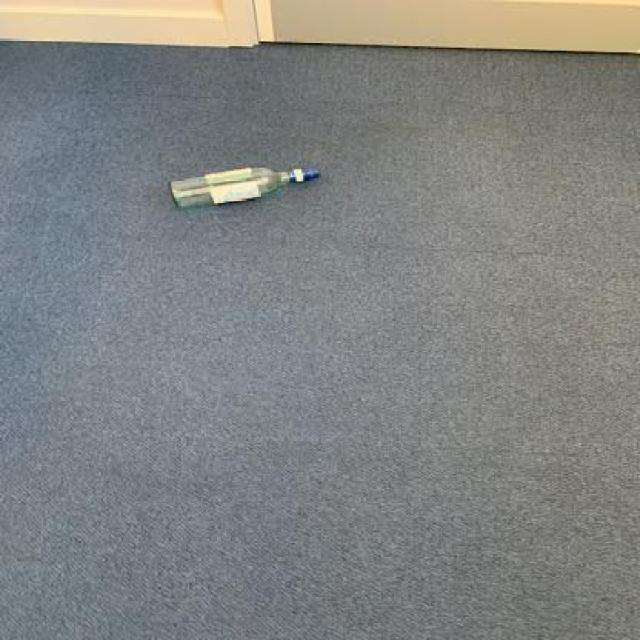trash: (164, 158, 324, 213)
